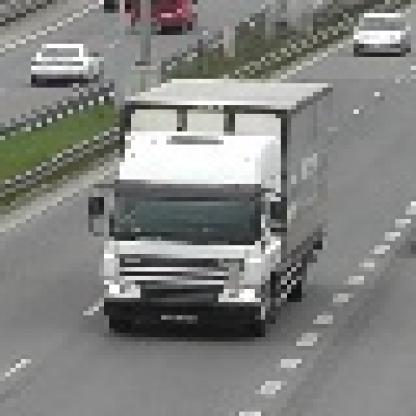truck: (84, 71, 334, 334)
